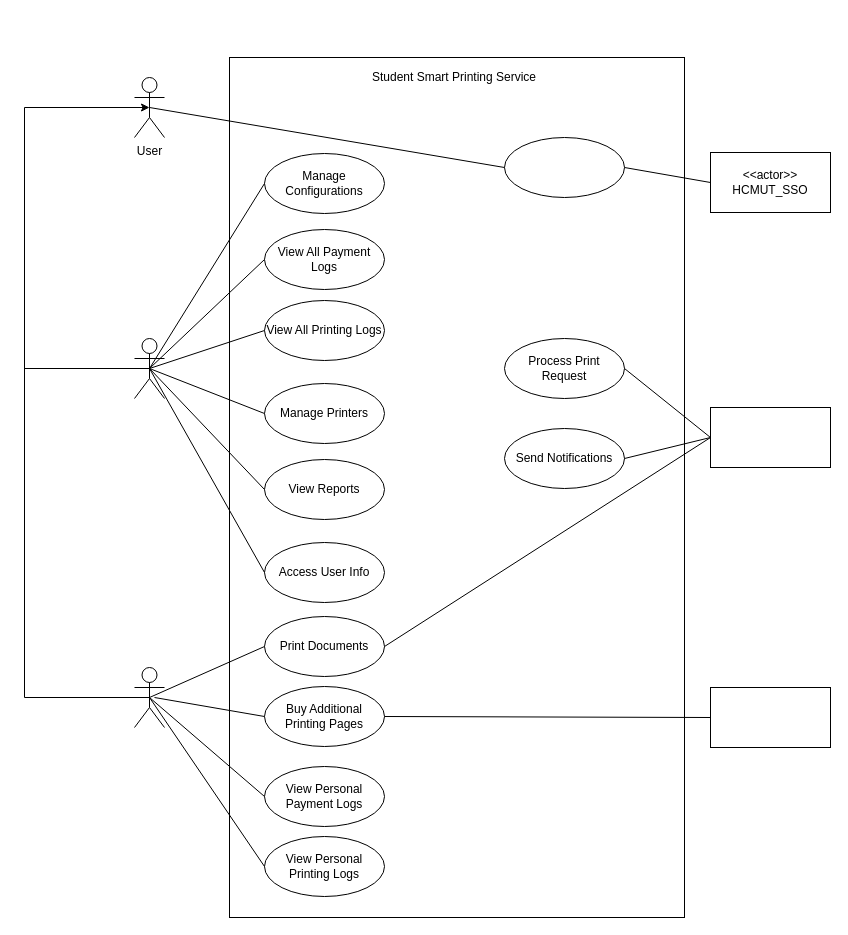
This 848x935 diagram has some shape labels left out. Each missing label, with the centre of its shape:
"<<actor>> Online Payment System" belongs at [770,717].
"<<actor>> Printer" belongs at [770,437].
"Authenticate" belongs at [564,167].
"SPSO" belongs at [149,368].
"Student" belongs at [149,697].
